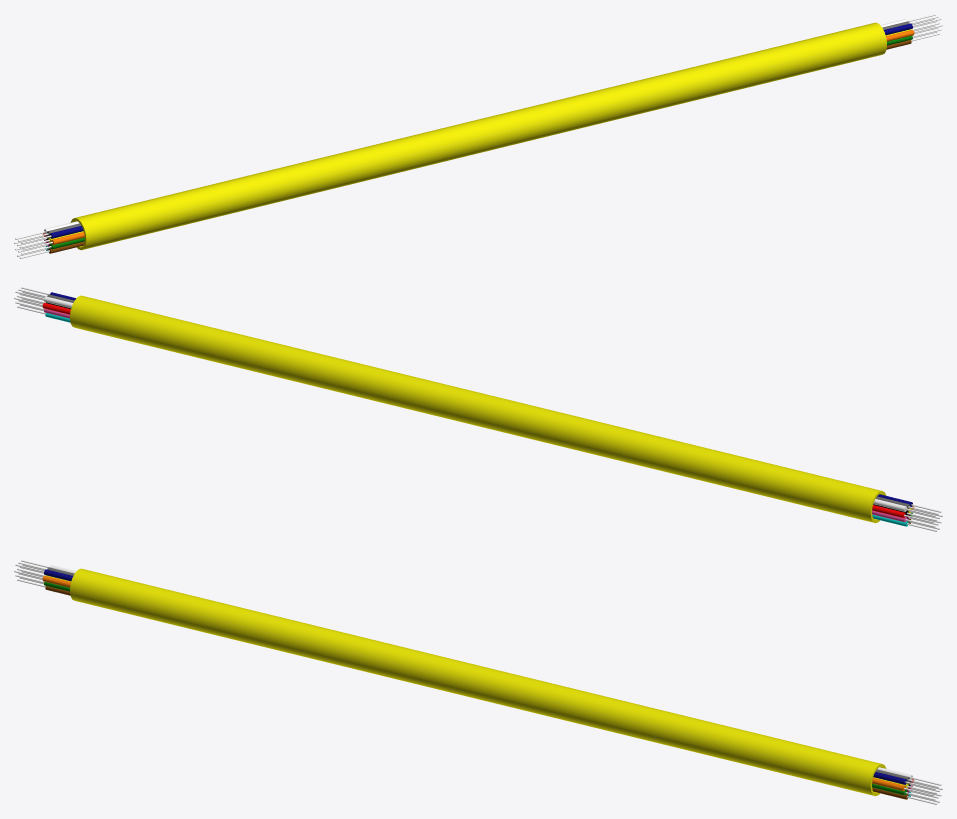
File: single mode.fbx
3 renders of one model, top to bottom at view 1: azimuth 30°, elevation 25°; view 2: azimuth 150°, elevation 25°; view 3: azimuth 330°, elevation 25°, orthographic.
Visible parts, largest first — view 1: single mode; view 2: single mode; view 3: single mode.
Boxes of the visible parts, box(x1,y1,x2,y2) form: single mode: box(14, 14, 942, 258); single mode: box(14, 287, 942, 531); single mode: box(14, 560, 942, 804).
Bounding box in the file's own units: 11.52 × 0.3592 × 0.3592.
1 material, 1 textured.
